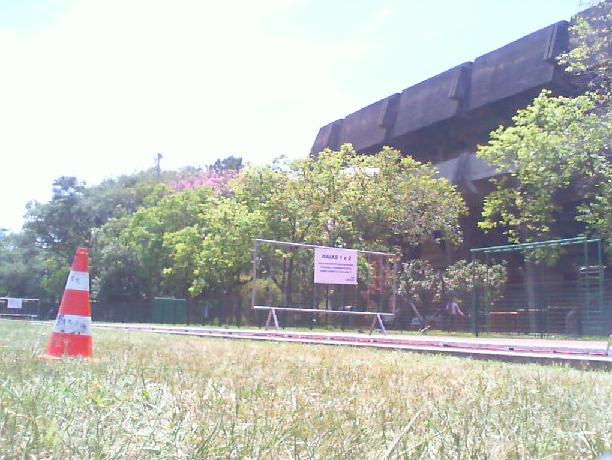0 cone: (37, 249, 99, 363)
